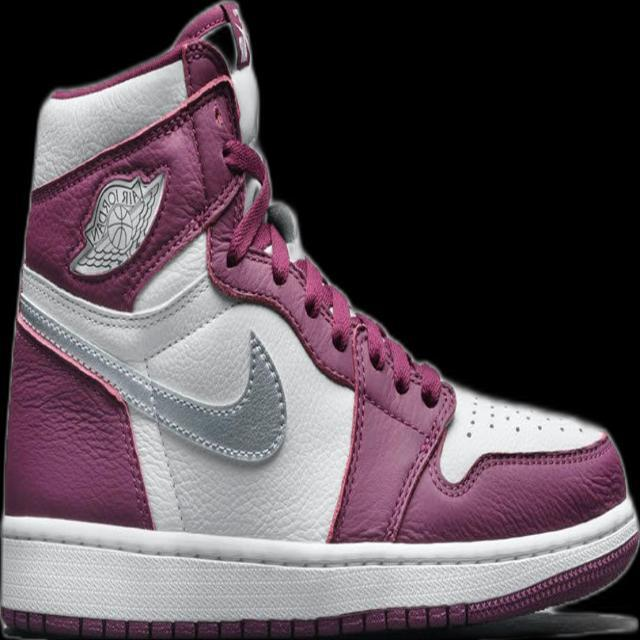J1_InsoleChar: (0, 0, 639, 639)
J1_ShoeLogo: (67, 169, 167, 279)
J1_StitchPattern: (16, 189, 605, 483), (0, 513, 639, 639), (15, 288, 289, 465), (2, 602, 472, 639), (379, 416, 448, 544), (458, 391, 592, 444)
